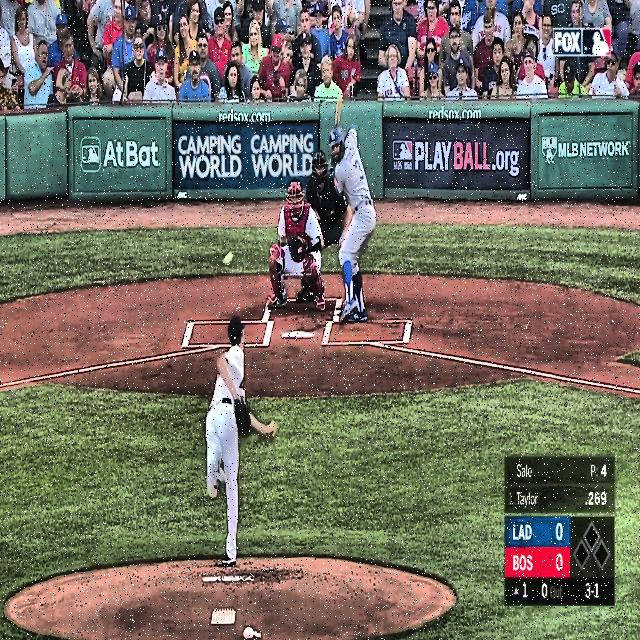baseball: (224, 252, 233, 265)
